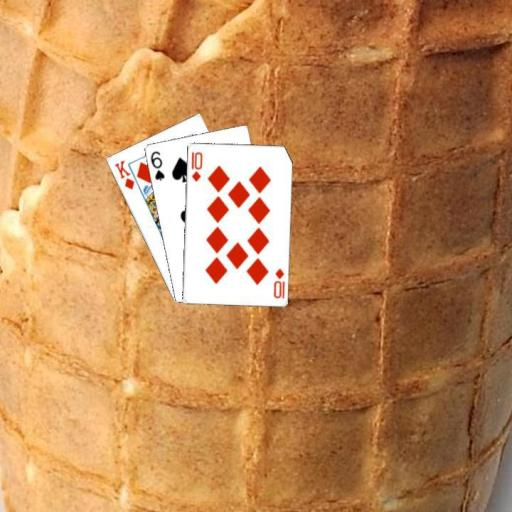10D: (270, 265, 286, 300), (188, 149, 203, 183)
6S: (147, 148, 166, 182)
KD: (111, 157, 136, 191)
